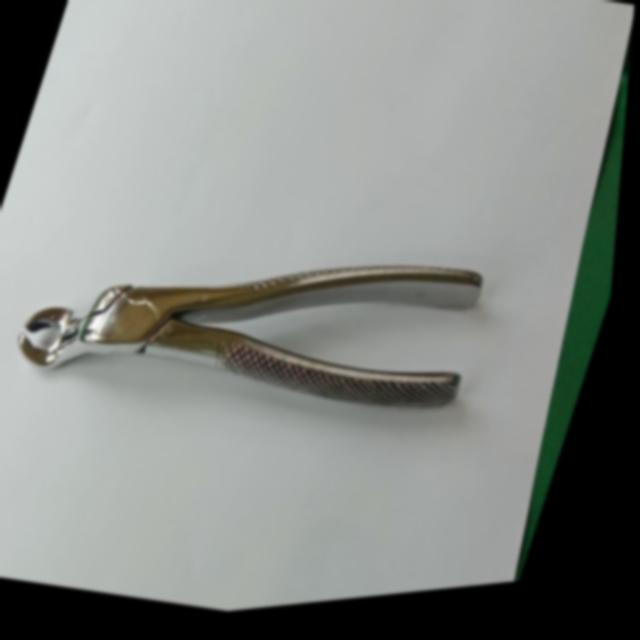BayonetForcep: (0, 136, 524, 493)
